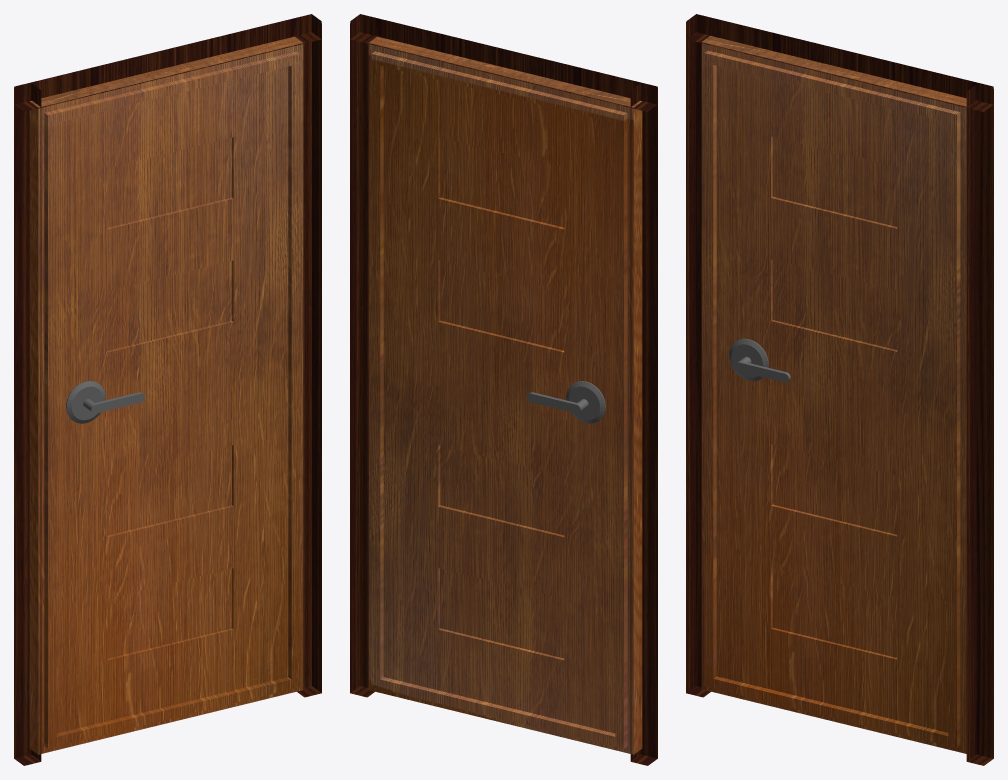
File: PortaSemAnimacao.fbx
The picture shows the model from 3 angles, left to right: view 1: azimuth 30°, elevation 25°; view 2: azimuth 150°, elevation 25°; view 3: azimuth 330°, elevation 25°; orthographic projection.
Parts seen in each view (by area): view 1: Porta, Batente, Maçaneta; view 2: Porta, Batente, Maçaneta; view 3: Porta, Batente, Maçaneta.
Boxes of the visible parts, x1,y1,x2,y2 form: Porta: [29, 36, 303, 754]; Batente: [14, 14, 321, 765]; Maçaneta: [66, 381, 144, 423]; Porta: [368, 36, 642, 754]; Batente: [350, 14, 657, 765]; Maçaneta: [527, 381, 605, 423]; Porta: [701, 36, 966, 753]; Batente: [686, 14, 993, 765]; Maçaneta: [729, 338, 790, 382].
Size of the model in its own units: 101 by 218 by 16.47.
Materials: 3 (2 with a texture image).
